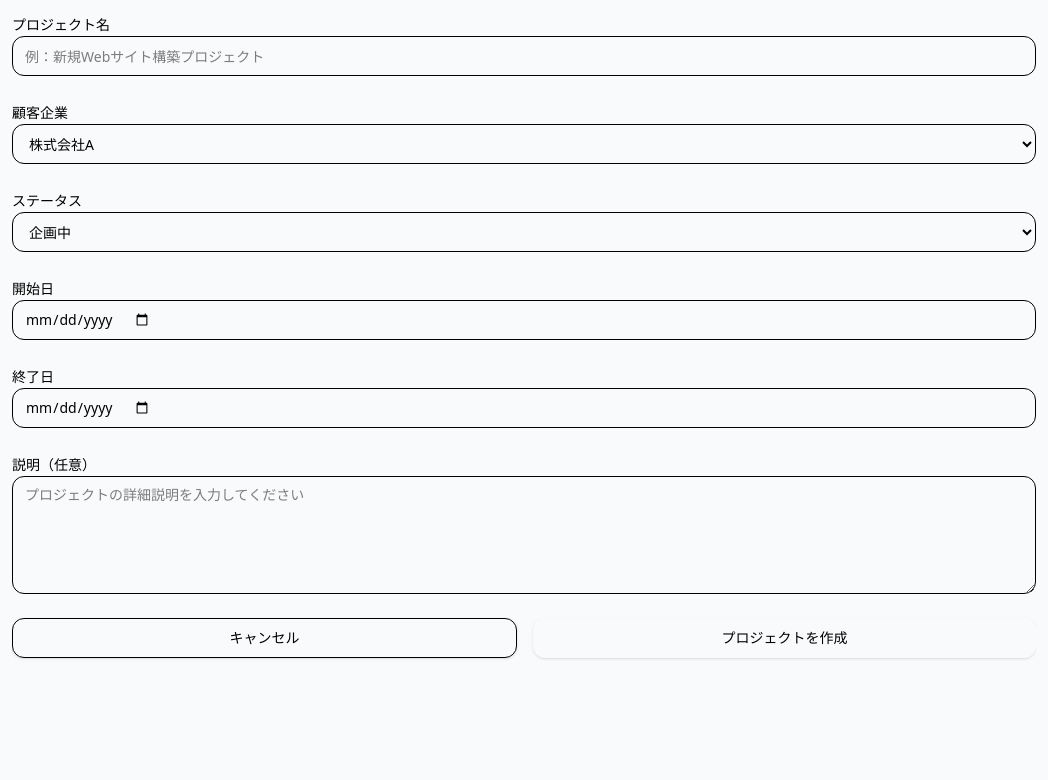
ProjectForm › バリデーション › プロジェクト名が空の場合エラーが表示される
Click the button "プロジェクトを作成" at coordinates (784, 638), box [533,618,1036,658]
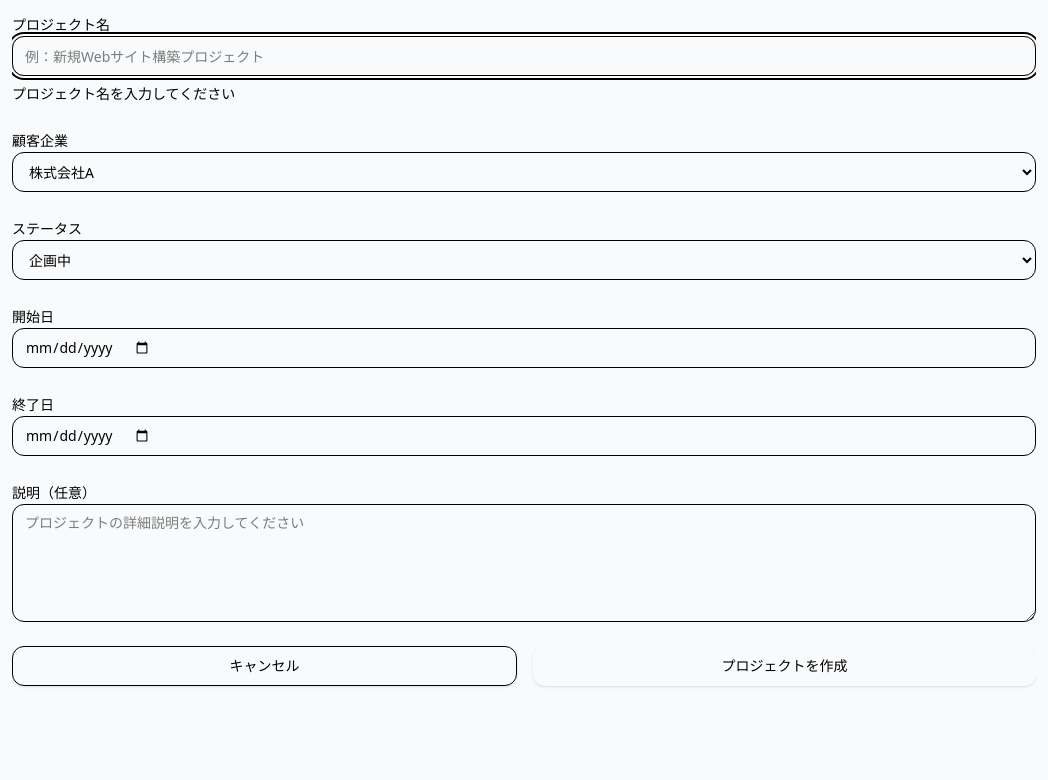
expect the text "プロジェクト名を入力してください" is shown: met, box [12,84,235,103]
